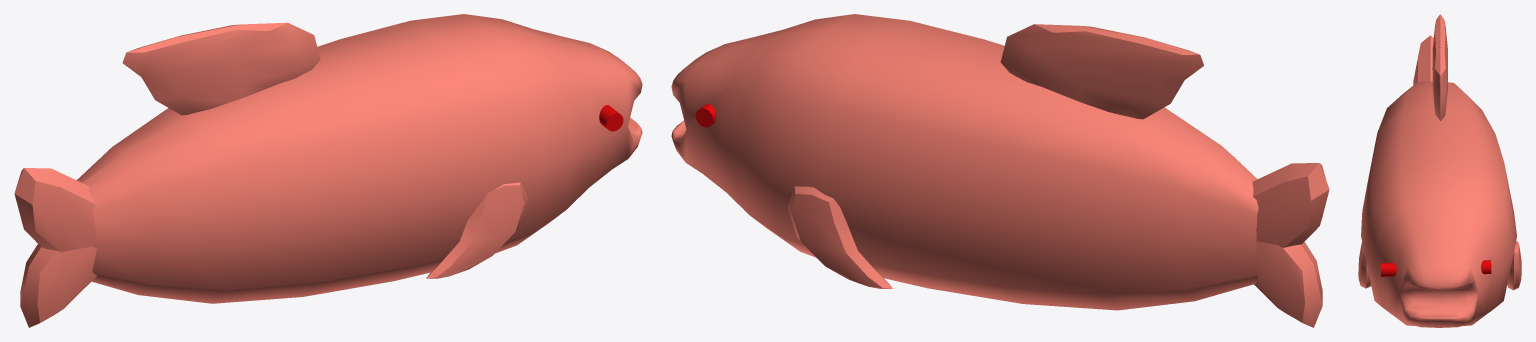
Rendered from Fish.fbx.
3 renders of one model, left to right at view 1: azimuth 30°, elevation 25°; view 2: azimuth 150°, elevation 25°; view 3: azimuth 270°, elevation 25°, orthographic. The views are drawn at different scales.
Parts seen in each view (by area): view 1: Cube, Cube.002, Cube.001, Cube.003, Cylinder; view 2: Cube, Cube.002, Cube.001, Cube.003; view 3: Cube, Cube.002, Cube.003, Cube.001, Cylinder.
Part boxes in pixels (x1=…): Cube: x1=77, y1=14, x2=642, y2=303; Cube.002: x1=122, y1=22, x2=320, y2=115; Cube.001: x1=14, y1=168, x2=97, y2=327; Cube.003: x1=426, y1=182, x2=527, y2=278; Cylinder: x1=599, y1=105, x2=623, y2=131; Cube: x1=671, y1=14, x2=1258, y2=310; Cube.002: x1=1000, y1=24, x2=1203, y2=119; Cube.001: x1=1252, y1=163, x2=1329, y2=327; Cube.003: x1=787, y1=186, x2=892, y2=288; Cube: x1=1361, y1=81, x2=1516, y2=327; Cube.002: x1=1432, y1=14, x2=1447, y2=121; Cube.003: x1=1358, y1=241, x2=1521, y2=290; Cube.001: x1=1413, y1=35, x2=1433, y2=84; Cylinder: x1=1380, y1=260, x2=1491, y2=276.
Size of the model in its own units: 606 by 255 by 196.
